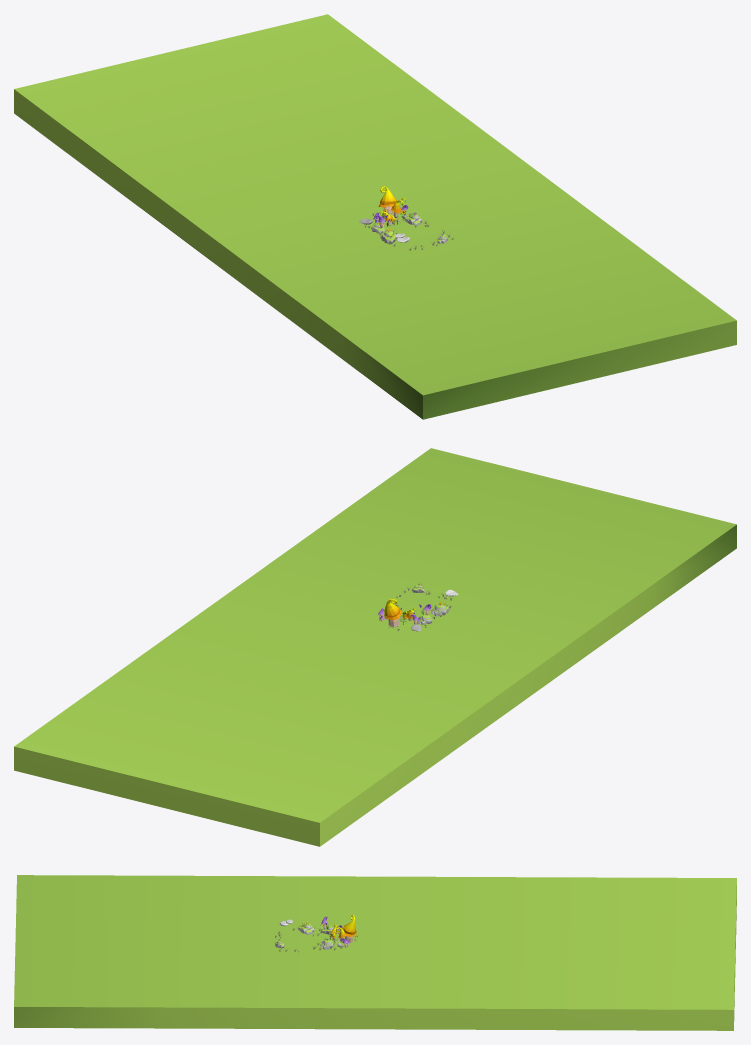
File: new_environment_6.fbx
3 views of the same model, one above another, from view 1: azimuth 30°, elevation 25°; view 2: azimuth 150°, elevation 25°; view 3: azimuth 270°, elevation 25° (orthographic). The views are drawn at different scales.
Parts seen in each view (by area): view 1: polySurface550; view 2: polySurface550; view 3: polySurface550, polySurface1724.
Boxes of the visible parts, <box> form: polySurface550: <box>14,14,736,419</box>; polySurface550: <box>14,448,736,846</box>; polySurface550: <box>14,875,736,1030</box>; polySurface1724: <box>336,915,356,942</box>.
Size of what is drawn, in the model's own units: 159 by 25.26 by 362.
1 material, 1 textured.
